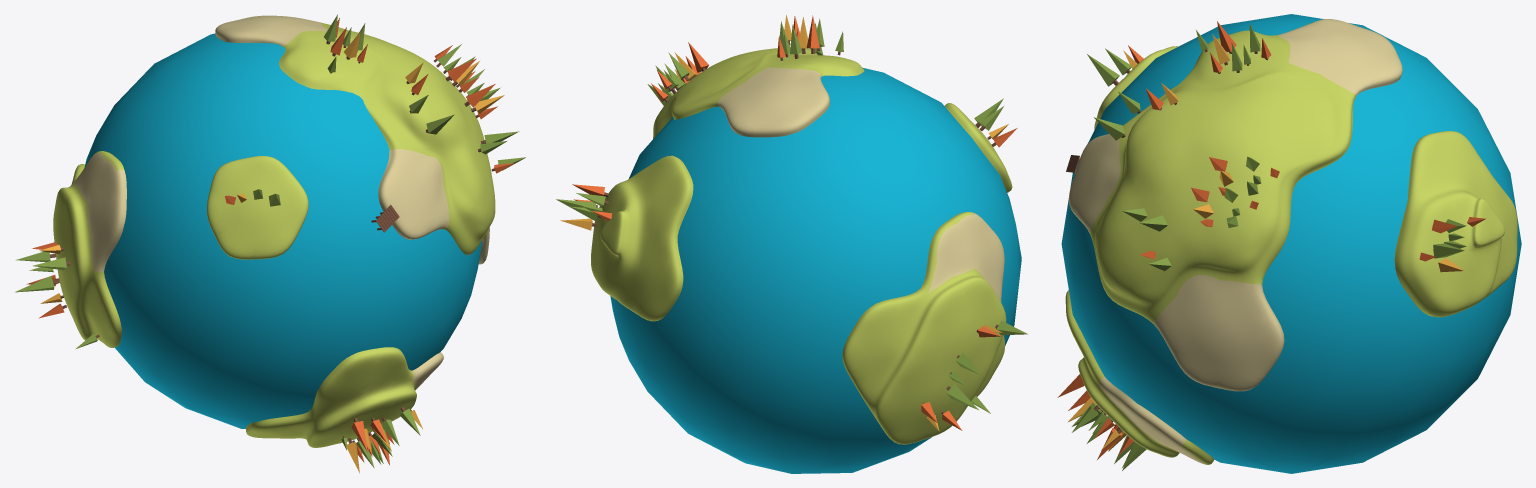
Rendered from Planet.glb.
The picture shows the model from 3 angles, left to right: view 1: azimuth 30°, elevation 25°; view 2: azimuth 150°, elevation 25°; view 3: azimuth 270°, elevation 25°; orthographic projection. The views are drawn at different scales.
Visible parts, largest first — view 1: Water, Planet; view 2: Water, Planet; view 3: Planet, Water.
Part boxes in pixels (bbox=[...]): Water: bbox=[84, 33, 482, 428]; Planet: bbox=[53, 15, 495, 447]; Water: bbox=[610, 67, 1021, 473]; Planet: bbox=[591, 47, 1012, 444]; Planet: bbox=[1065, 19, 1517, 464]; Water: bbox=[1061, 14, 1521, 473].
Bounding box in the file's own units: 2.45 × 2.26 × 2.09.
